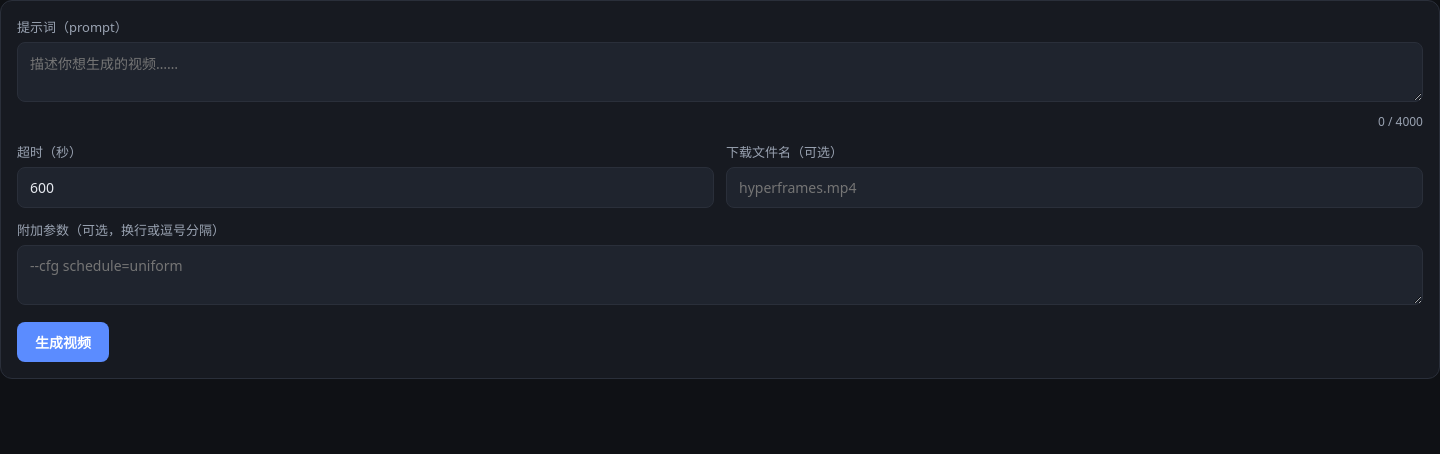
Test: Composer hardening › rejects an illegal download filename
The width and height of the screenshot is (1440, 454).
Step 1. Type "make a video" into the text box labelled "提示词（prompt）" → [720, 72], box [17, 42, 1423, 102]
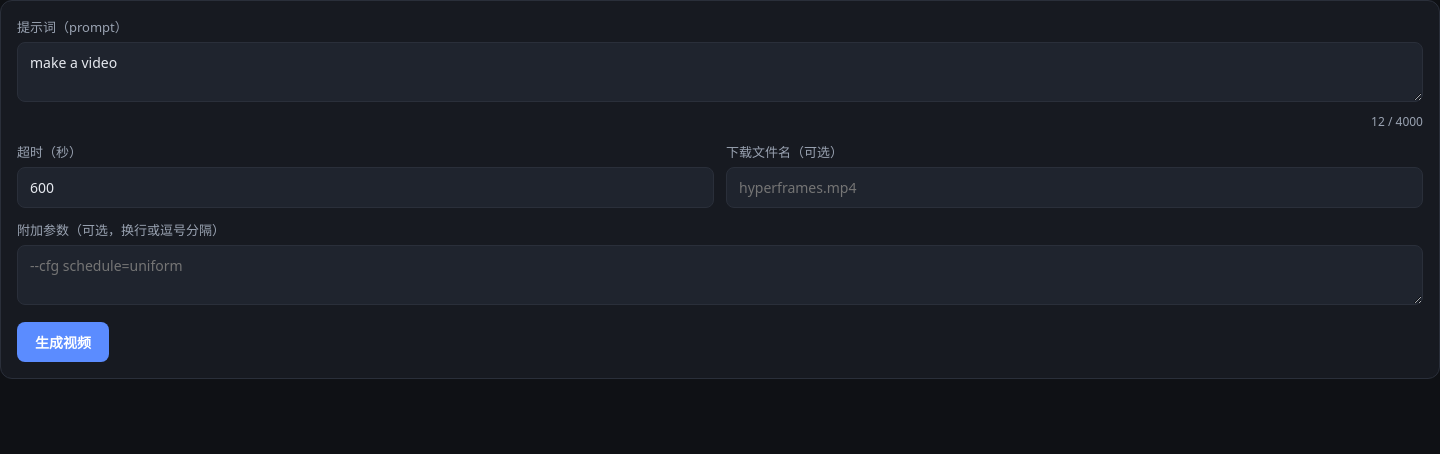
Step 2. Type "a/b.mp4" into the field labelled "下载文件名（可选）" → [1074, 188], box [726, 167, 1423, 208]
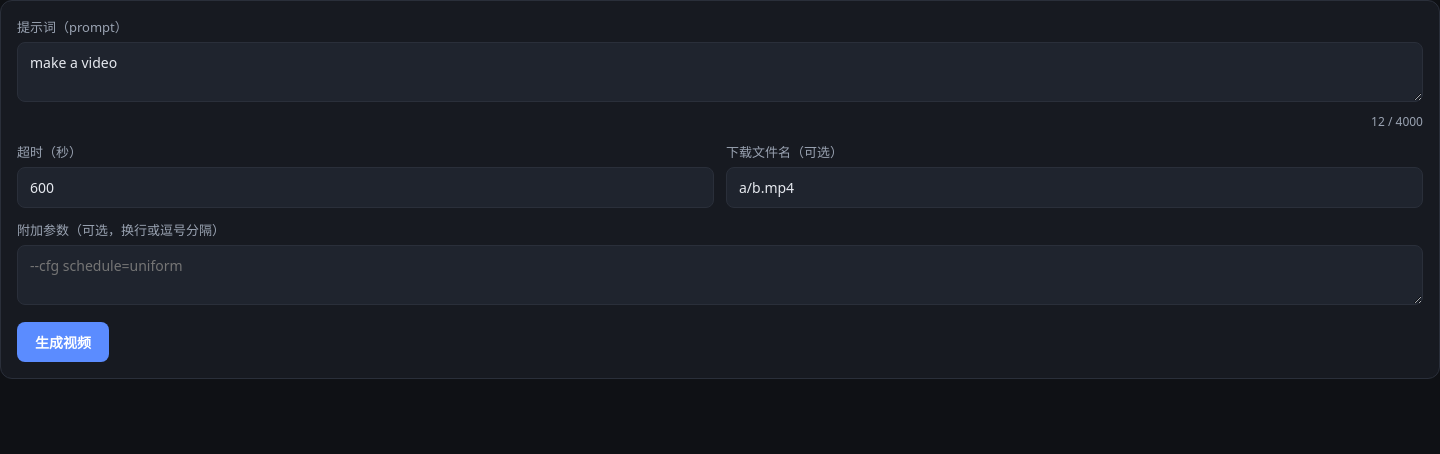
Step 3. Click the button "生成视频" → [63, 342], box [17, 322, 109, 362]
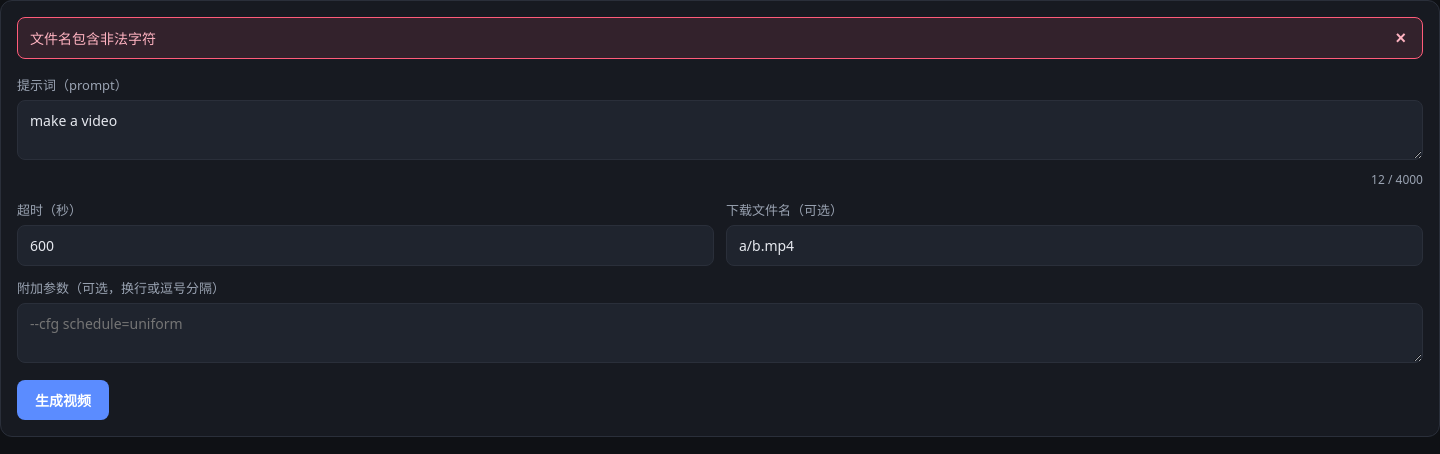
Result: the text "文件名包含非法字符" is shown at [30, 28, 156, 48]
